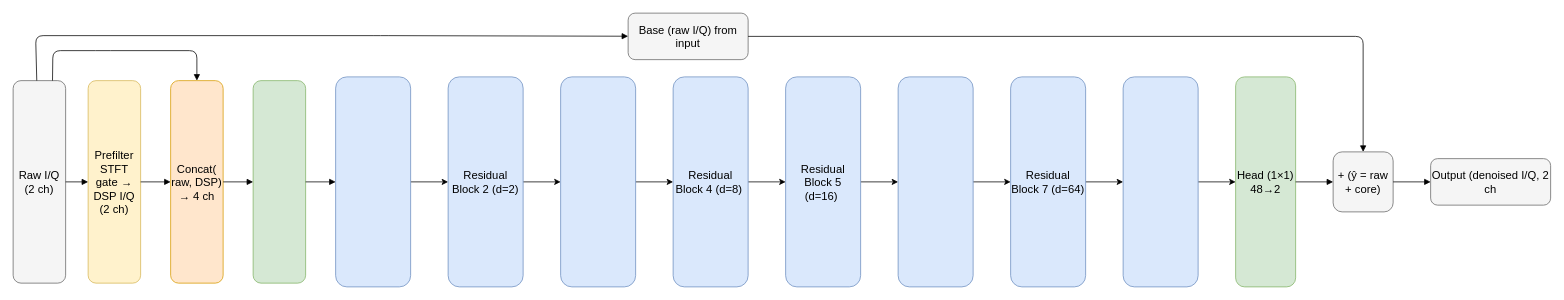
Image size: 1564x300. Some labels were removed from this diagram. Each missing label, with the box of its shape:
Residual Block 1 (d=1): (335, 76, 411, 287)
Residual Block 3 (d=4): (560, 76, 636, 287)
Residual Block 6 (d=32): (897, 76, 973, 287)
Residual Block 8 (d=128): (1122, 76, 1198, 287)
Stem 1×1 Causal Conv 4 → 48: (252, 80, 306, 283)
